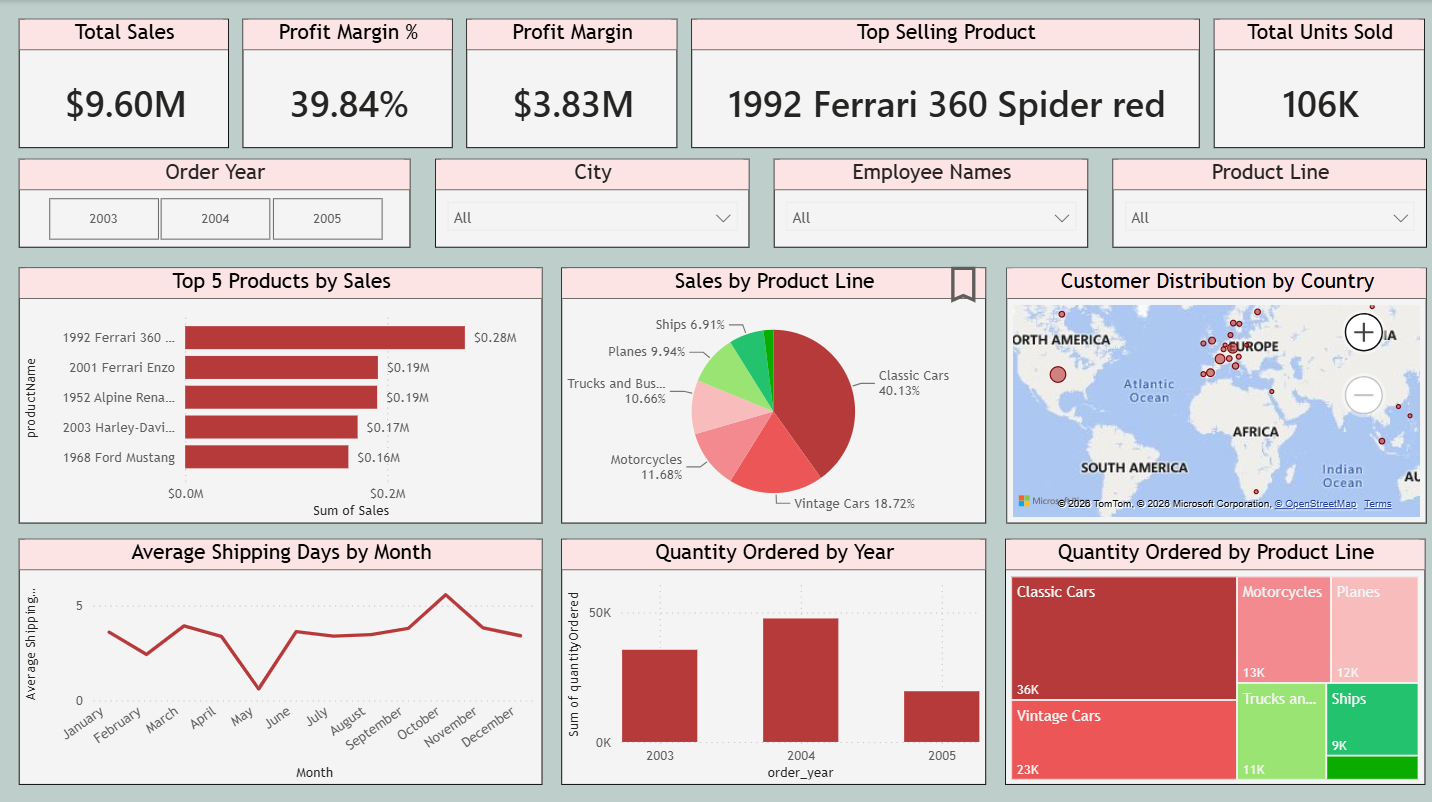

The dashboard page shown, as its layout file describes it:
{"tool":"powerbi","page":{"name":"Page 1","canvas":[1280,720],"ordinal":0},"visuals":[{"type":"cardVisual","title":"Profit Margin","fields":{"Data":["order details.total_profit"]},"box":[355.4,16.5,163.3,115.3],"z":0},{"type":"cardVisual","title":"Top Selling  Product","fields":{"Data":["order details.MostOrderedProduct"]},"box":[529.7,16.5,454.2,115.3],"z":1000},{"type":"clusteredBarChart","title":"Top 5 selling Products","fields":{"Category":["products.productName"],"Y":["Sum(order details.Sales)"]},"box":[16.5,238.8,466.6,227.8],"z":2000},{"type":"pieChart","fields":{"Category":["products.productLine"],"Y":["Sum(order details.Sales)"]},"box":[499.5,238.8,378.7,227.8],"z":3000},{"type":"lineChart","fields":{"Y":["orders.Average Shipping Days"],"Category":["orders.orderDate.Variation.Date Hierarchy.Month"]},"box":[16.5,480.3,466.6,219.6],"z":4000},{"type":"treemap","fields":{"Group":["productlines.productLine"],"Values":["Sum(order details.quantityOrdered)"]},"box":[894.7,480.3,374.6,219.6],"z":5000},{"type":"map","fields":{"Category":["customers.country"],"Size":["CountNonNull(customers.customerNumber)"]},"box":[896.1,238.8,374.6,227.8],"z":6000},{"type":"clusteredColumnChart","fields":{"Category":["orders.order_year"],"Y":["Sum(order details.quantityOrdered)"]},"box":[499.5,480.3,378.7,219.6],"z":7000},{"type":"kpi","title":"Sales 2004 based on Months","fields":{"Indicator":["orders.sales_2004"],"Goal":["orders.sales_2003"],"TrendLine":["orders.Month Name"]},"box":[994.9,16.5,274.4,115.3],"z":8000},{"type":"cardVisual","title":"Profit Margin %","fields":{"Data":["classic_models_dataset.Profit_Margin_%"]},"box":[185.2,16.5,163.3,115.3],"z":9000},{"type":"cardVisual","title":"Total Sales","fields":{"Data":["Sum(order details.Sales)"]},"box":[16.5,16.5,163.3,115.3],"z":10000},{"type":"slicer","title":"Employee Names","fields":{"Values":["employees.EmployeeFullName"]},"box":[679.2,141.3,271.7,79.6],"z":11000},{"type":"slicer","title":"City","fields":{"Values":["employees.city"]},"box":[387,141.3,264.8,79.6],"z":12000},{"type":"slicer","title":"Product Line","fields":{"Values":["productlines.productLine"]},"box":[974.3,141.3,295,79.6],"z":13000},{"type":"slicer","title":"Order Year","fields":{"Values":["orders.order_year"]},"box":[16.5,141.3,348.5,79.6],"z":14000},{"type":"actionButton","box":[836.8,220.9,41.7,66.3],"z":15000}]}

Visuals, with their boxes in screenshot pixels (x1, y1, x2, y2), scaled from the page's 1280x720 canvas onto the 1432x802 screenshot:
"Profit Margin" cardVisual: (398,18,580,147)
"Top Selling  Product" cardVisual: (593,18,1101,147)
"Top 5 selling Products" clusteredBarChart: (18,266,540,520)
pieChart - products.productLine x Sum(order details.Sales): (559,266,982,520)
lineChart - orders.Average Shipping Days x orders.orderDate.Variation.Date Hierarchy.Month: (18,535,540,780)
treemap - productlines.productLine x Sum(order details.quantityOrdered): (1001,535,1420,780)
map - customers.country x CountNonNull(customers.customerNumber): (1003,266,1422,520)
clusteredColumnChart - orders.order_year x Sum(order details.quantityOrdered): (559,535,982,780)
"Sales 2004 based on Months" kpi: (1113,18,1420,147)
"Profit Margin %" cardVisual: (207,18,390,147)
"Total Sales" cardVisual: (18,18,201,147)
"Employee Names" slicer: (760,157,1064,246)
"City" slicer: (433,157,729,246)
"Product Line" slicer: (1090,157,1420,246)
"Order Year" slicer: (18,157,408,246)
actionButton: (936,246,983,320)
